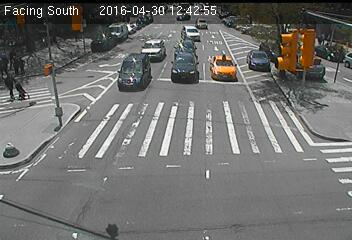neg: (270, 122, 300, 163), (188, 41, 217, 80), (261, 73, 288, 110), (175, 114, 197, 143), (122, 148, 142, 175), (77, 55, 90, 73)
pos: (1, 71, 18, 96), (12, 52, 27, 71), (7, 45, 17, 58)
